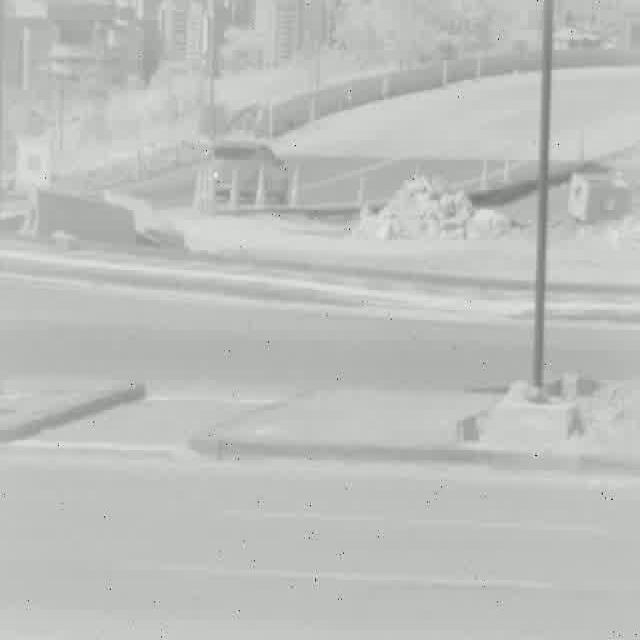Car: (208, 144, 290, 203)
